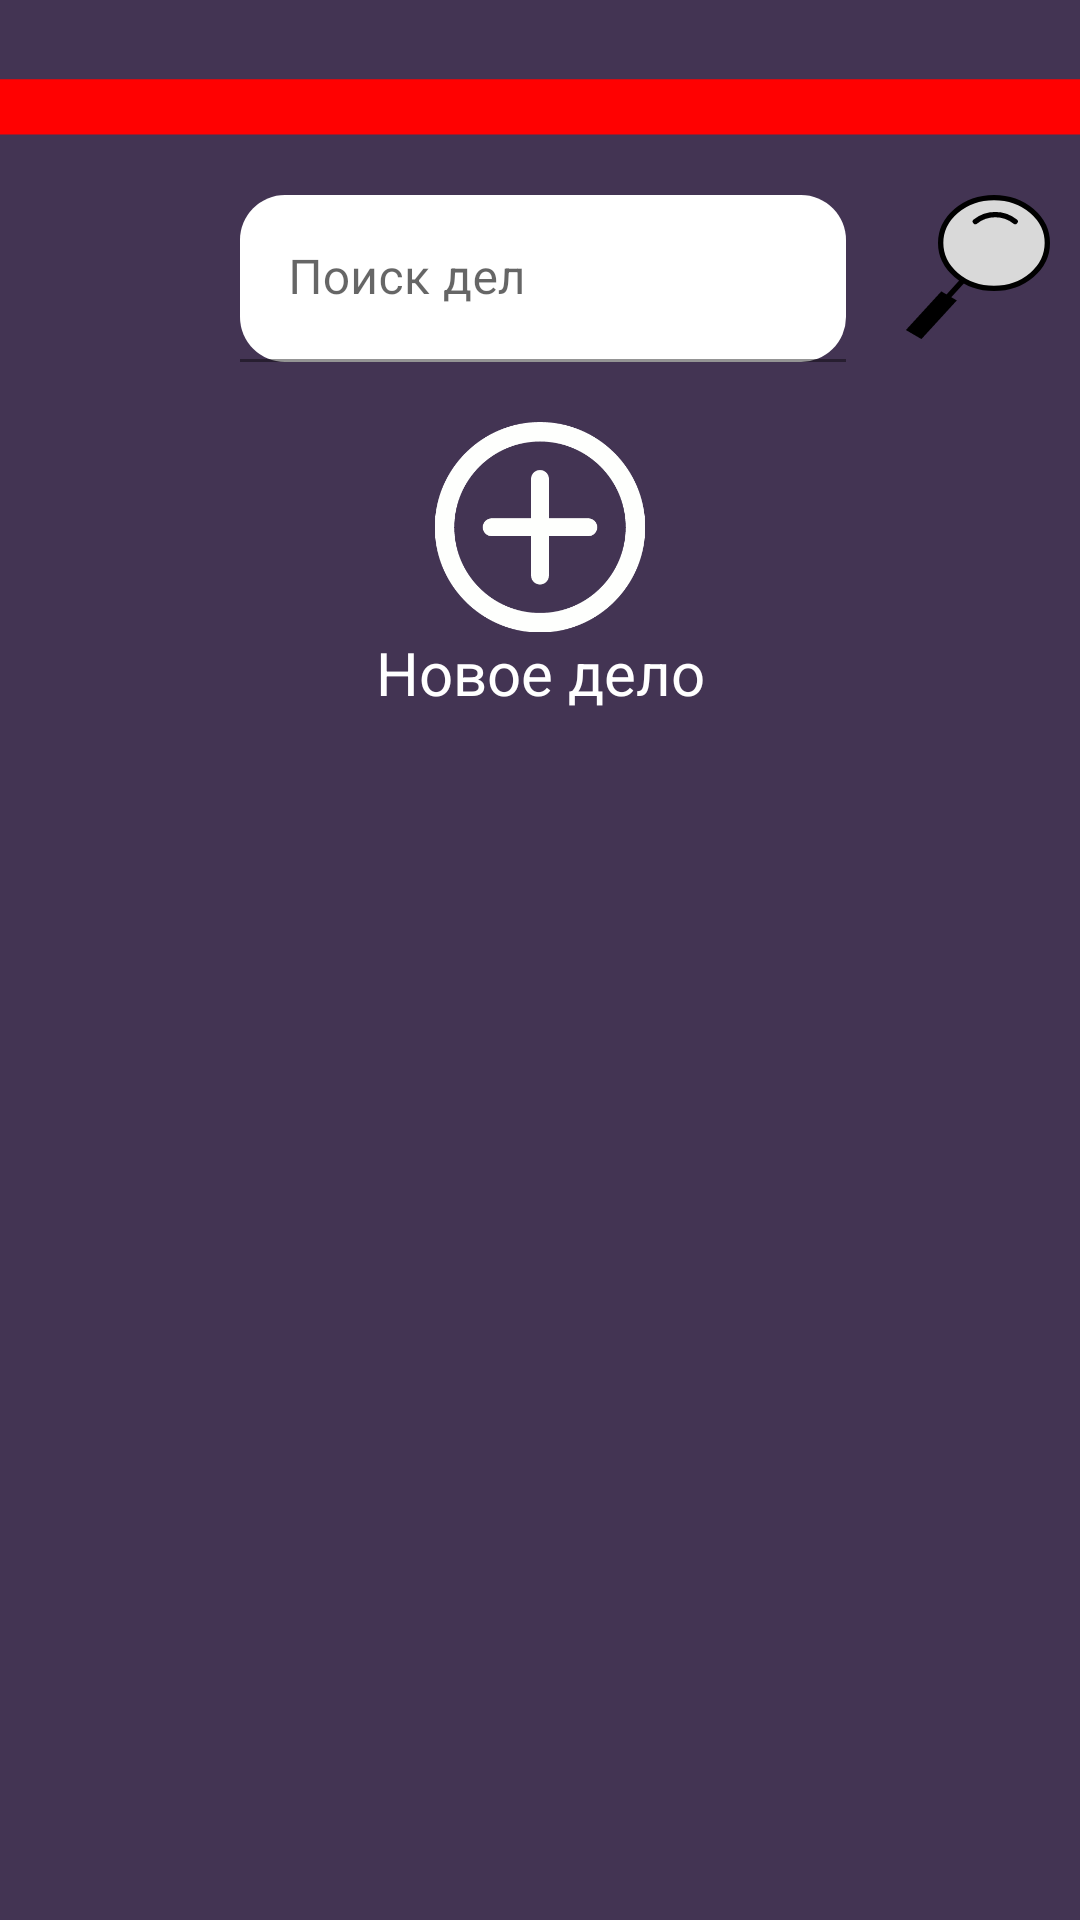

Icon click points for this 1080px x 1920px phone screenshot, format [x,y]:
search: [978,267]
